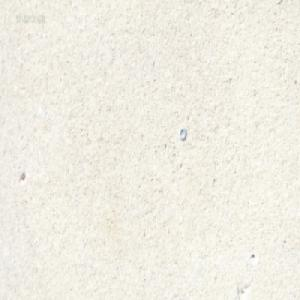Washer: (178, 126, 186, 141)
